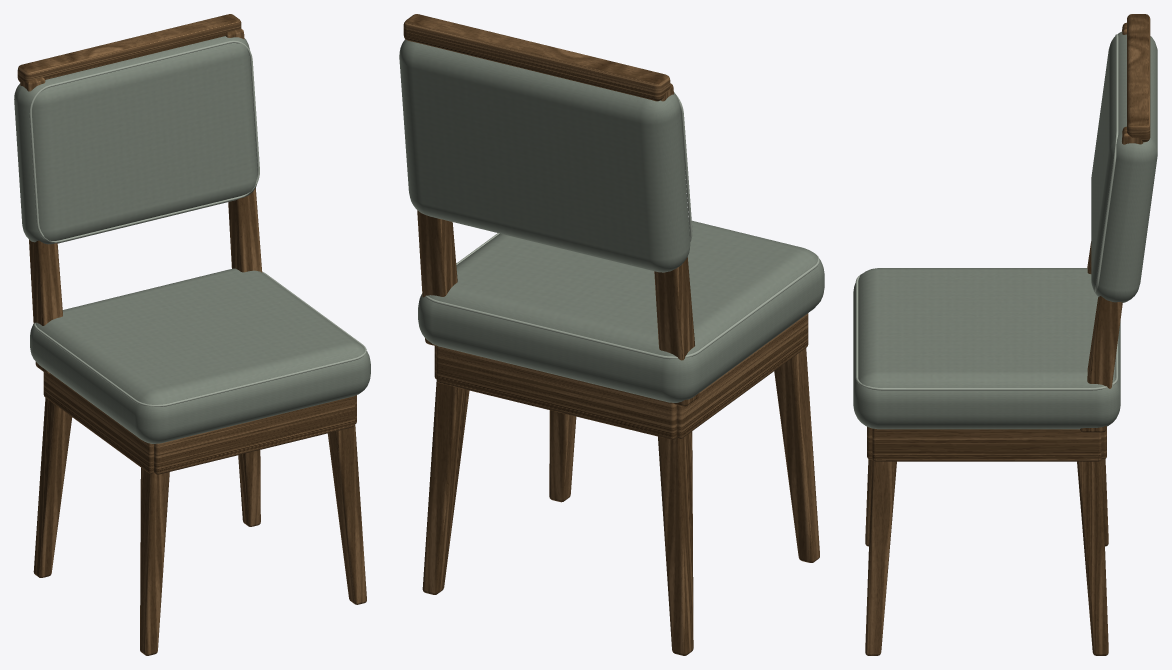
Rendered from cozy-chair.glb.
The picture shows the model from 3 angles, left to right: view 1: azimuth 30°, elevation 25°; view 2: azimuth 150°, elevation 25°; view 3: azimuth 270°, elevation 25°; orthographic projection. The views are drawn at different scales.
Parts seen in each view (by area): view 1: cozy-chair - Cozy sage woven upholstery.003, cozy-chair - Cozy satin oak.003, cozy-chair - Cozy sage piping.003; view 2: cozy-chair - Cozy sage woven upholstery.003, cozy-chair - Cozy satin oak.003, cozy-chair - Cozy sage piping.003; view 3: cozy-chair - Cozy sage woven upholstery.003, cozy-chair - Cozy satin oak.003, cozy-chair - Cozy sage piping.003.
Boxes of the visible parts, bbox=[...] form: cozy-chair - Cozy sage woven upholstery.003: bbox=[14, 36, 370, 443]; cozy-chair - Cozy satin oak.003: bbox=[17, 14, 366, 655]; cozy-chair - Cozy sage piping.003: bbox=[29, 40, 366, 406]; cozy-chair - Cozy sage woven upholstery.003: bbox=[399, 39, 824, 402]; cozy-chair - Cozy satin oak.003: bbox=[403, 14, 819, 655]; cozy-chair - Cozy sage piping.003: bbox=[425, 92, 819, 359]; cozy-chair - Cozy sage woven upholstery.003: bbox=[853, 31, 1157, 429]; cozy-chair - Cozy satin oak.003: bbox=[865, 14, 1150, 655]; cozy-chair - Cozy sage piping.003: bbox=[855, 34, 1118, 390].
Bounding box in the file's own units: 0.49 × 0.9955 × 0.5179.
Materials: 3 (2 with a texture image).
